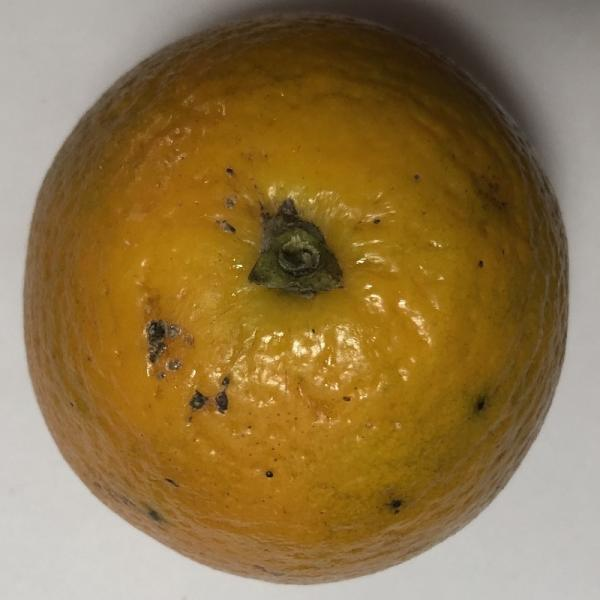Machas negras: (17, 0, 578, 591)
